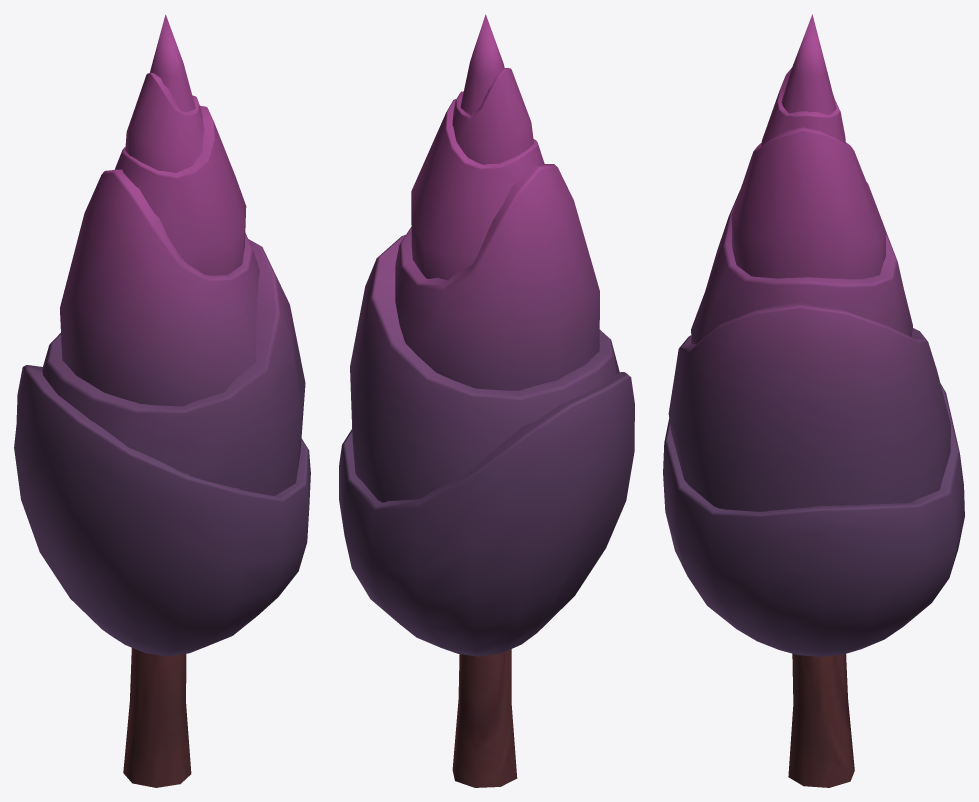
Rendered from arboles12.fbx.
3 renders of one model, left to right at view 1: azimuth 30°, elevation 25°; view 2: azimuth 150°, elevation 25°; view 3: azimuth 270°, elevation 25°, orthographic.
Visible parts, largest first — view 1: Tree.004_Base_Material_0.001; view 2: Tree.004_Base_Material_0.001; view 3: Tree.004_Base_Material_0.001.
Boxes of the visible parts, box(x1,y1,x2,y2) form: Tree.004_Base_Material_0.001: box(14, 14, 310, 787); Tree.004_Base_Material_0.001: box(339, 14, 634, 787); Tree.004_Base_Material_0.001: box(663, 14, 964, 787).
Size of the model in its own units: 216 by 604 by 217.
